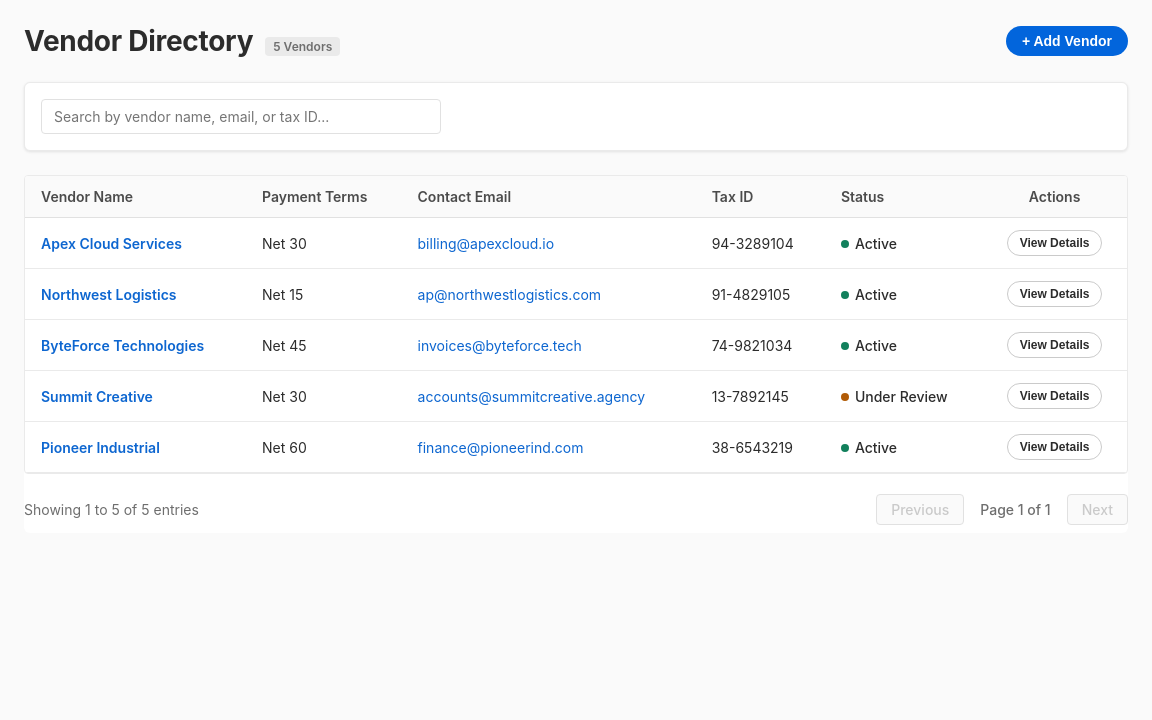
Test: VendorsPage › Search & Filtering › filters vendors by name search query
The width and height of the screenshot is (1152, 720).
Check: the text "Apex Cloud Services" is shown, box [41,234,182,252]
Type "ByteForce" into the search field with test id "vendor-search-input" at point(241, 116), box [41,99,441,134]
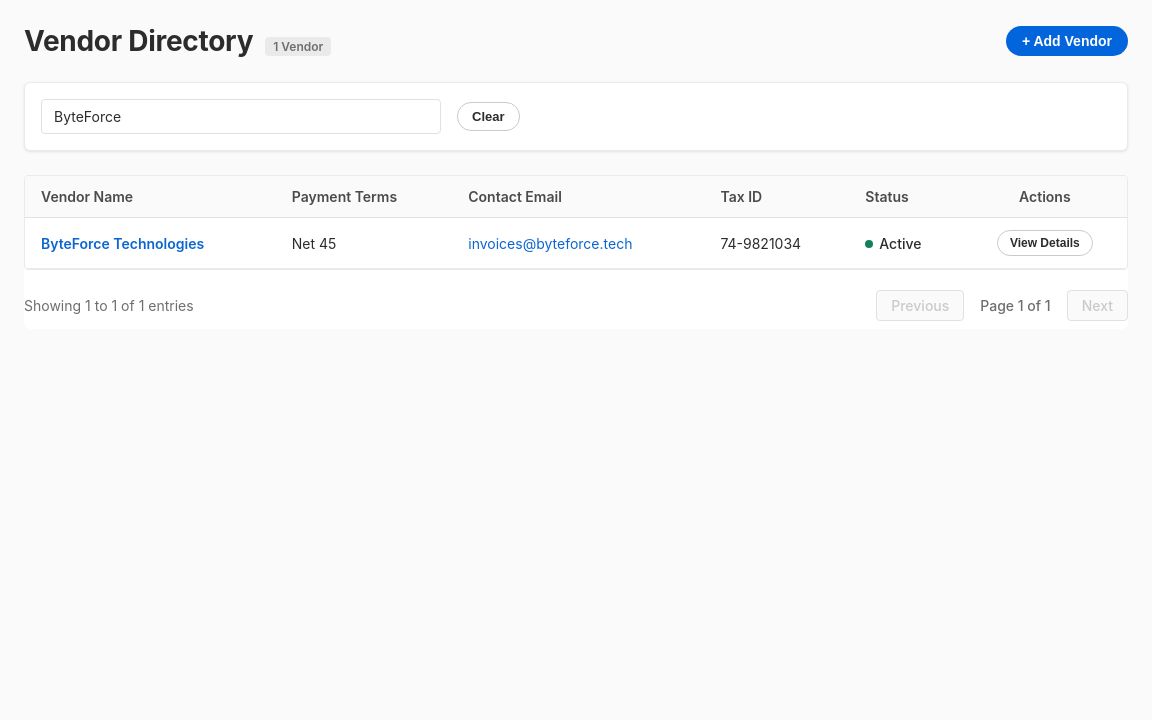
Check: the text "ByteForce Technologies" is shown, box [41,234,204,252]
Check: the text "Apex Cloud Services" is gone
Check: the text "Northwest Logistics" is gone
